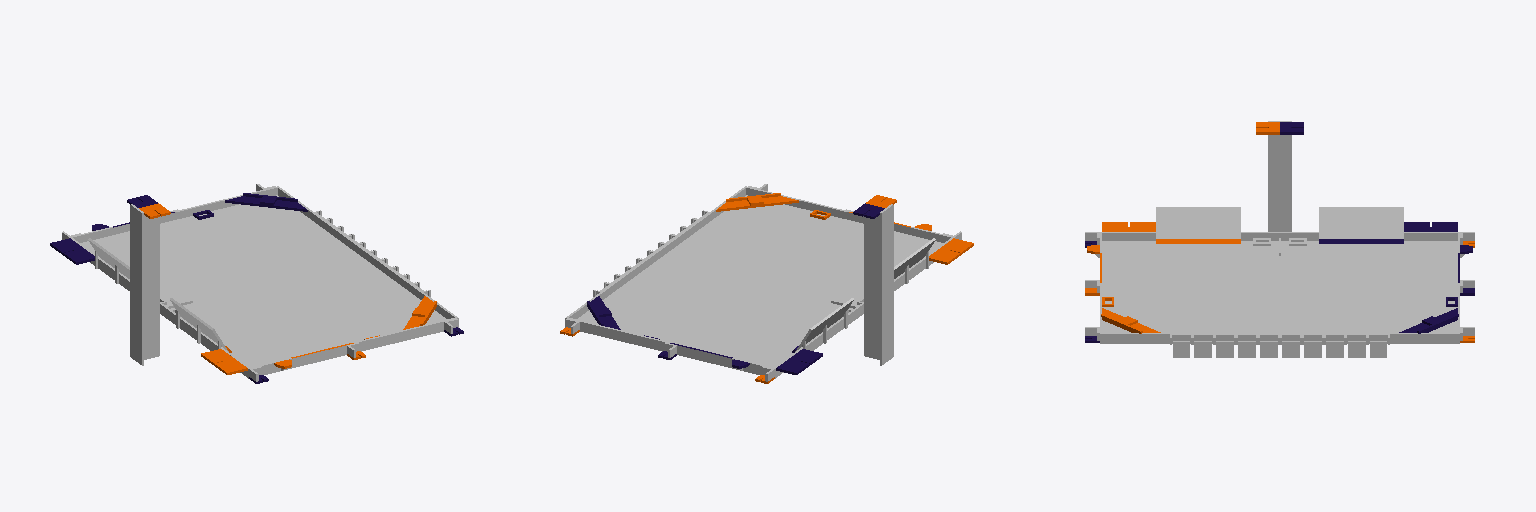
Rendered from Table.obj.
3 views of the same model, side by side, from view 1: azimuth 30°, elevation 25°; view 2: azimuth 150°, elevation 25°; view 3: azimuth 270°, elevation 25° (orthographic).
Parts seen in each view (by area): view 1: Shape_IndexedFaceSet.082, Shape_IndexedFaceSet.077, Shape_IndexedFaceSet.087, Shape_IndexedFaceSet.073, Shape_IndexedFaceSet.059, Shape_IndexedFaceSet.086, Shape_IndexedFaceSet.072, Shape_IndexedFaceSet.083, Shape_IndexedFaceSet.079, Shape_IndexedFaceSet.159, Shape_IndexedFaceSet.053; view 2: Shape_IndexedFaceSet.082, Shape_IndexedFaceSet.077, Shape_IndexedFaceSet.087, Shape_IndexedFaceSet.086, Shape_IndexedFaceSet.059, Shape_IndexedFaceSet.073, Shape_IndexedFaceSet.072, Shape_IndexedFaceSet.079, Shape_IndexedFaceSet.083, Shape_IndexedFaceSet.169, Shape_IndexedFaceSet.049; view 3: Shape_IndexedFaceSet.082, Shape_IndexedFaceSet.166, Shape_IndexedFaceSet.175, Shape_IndexedFaceSet.087, Shape_IndexedFaceSet.059, Shape_IndexedFaceSet.072, Shape_IndexedFaceSet.079, Shape_IndexedFaceSet.083.
Boxes of the visible parts, x1=… form: Shape_IndexedFaceSet.082: x1=81, y1=195, x2=446, y2=367; Shape_IndexedFaceSet.077: x1=144, y1=215, x2=159, y2=359; Shape_IndexedFaceSet.087: x1=130, y1=204, x2=143, y2=365; Shape_IndexedFaceSet.073: x1=248, y1=317, x2=458, y2=378; Shape_IndexedFaceSet.059: x1=278, y1=187, x2=456, y2=318; Shape_IndexedFaceSet.086: x1=69, y1=186, x2=278, y2=242; Shape_IndexedFaceSet.072: x1=90, y1=257, x2=247, y2=377; Shape_IndexedFaceSet.083: x1=201, y1=349, x2=247, y2=374; Shape_IndexedFaceSet.079: x1=50, y1=238, x2=94, y2=264; Shape_IndexedFaceSet.159: x1=170, y1=298, x2=228, y2=351; Shape_IndexedFaceSet.053: x1=225, y1=196, x2=307, y2=211; Shape_IndexedFaceSet.082: x1=577, y1=195, x2=942, y2=367; Shape_IndexedFaceSet.077: x1=864, y1=215, x2=879, y2=359; Shape_IndexedFaceSet.087: x1=880, y1=204, x2=893, y2=365; Shape_IndexedFaceSet.086: x1=565, y1=317, x2=775, y2=378; Shape_IndexedFaceSet.059: x1=567, y1=187, x2=745, y2=318; Shape_IndexedFaceSet.073: x1=745, y1=186, x2=954, y2=242; Shape_IndexedFaceSet.072: x1=776, y1=257, x2=933, y2=377; Shape_IndexedFaceSet.079: x1=776, y1=349, x2=822, y2=374; Shape_IndexedFaceSet.083: x1=929, y1=238, x2=973, y2=264; Shape_IndexedFaceSet.169: x1=795, y1=298, x2=853, y2=351; Shape_IndexedFaceSet.049: x1=716, y1=196, x2=798, y2=211; Shape_IndexedFaceSet.082: x1=1102, y1=241, x2=1457, y2=332; Shape_IndexedFaceSet.166: x1=1156, y1=207, x2=1240, y2=238; Shape_IndexedFaceSet.175: x1=1319, y1=207, x2=1403, y2=238; Shape_IndexedFaceSet.087: x1=1268, y1=121, x2=1291, y2=231; Shape_IndexedFaceSet.059: x1=1102, y1=333, x2=1457, y2=343; Shape_IndexedFaceSet.072: x1=1102, y1=232, x2=1457, y2=240; Shape_IndexedFaceSet.079: x1=1404, y1=222, x2=1457, y2=231; Shape_IndexedFaceSet.083: x1=1102, y1=222, x2=1155, y2=231.
Bounding box in the file's own units: 2.34 × 1.42 × 3.29.